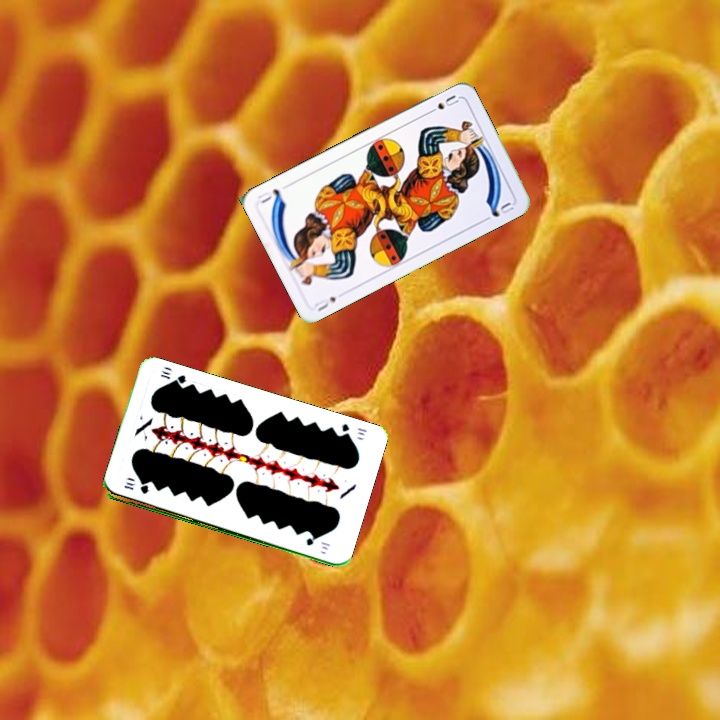G10: (337, 419, 369, 441), (120, 478, 151, 497)
SU: (423, 91, 461, 117), (311, 292, 339, 314)
